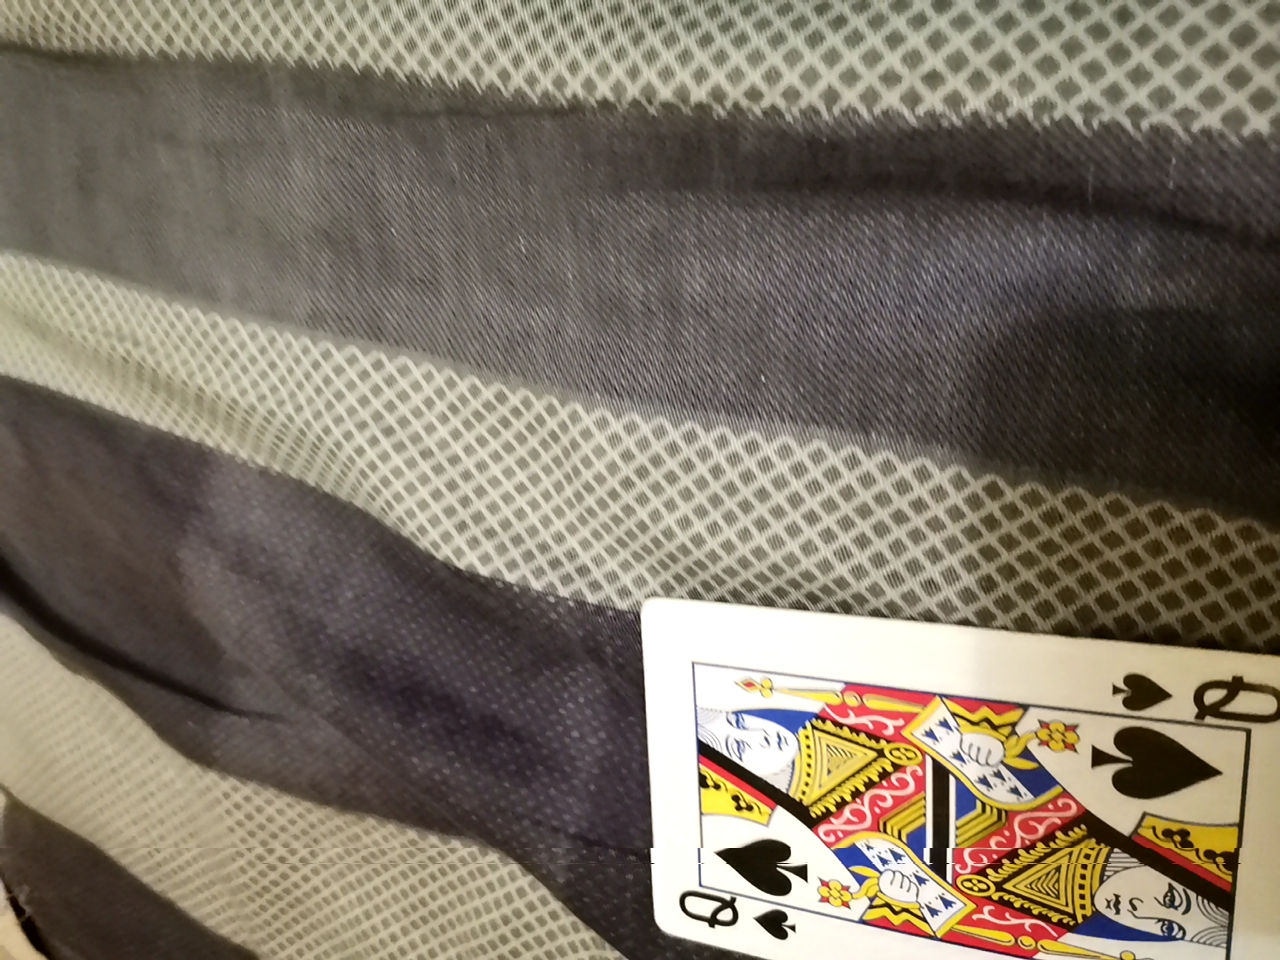ht q: (626, 605, 1269, 956)
